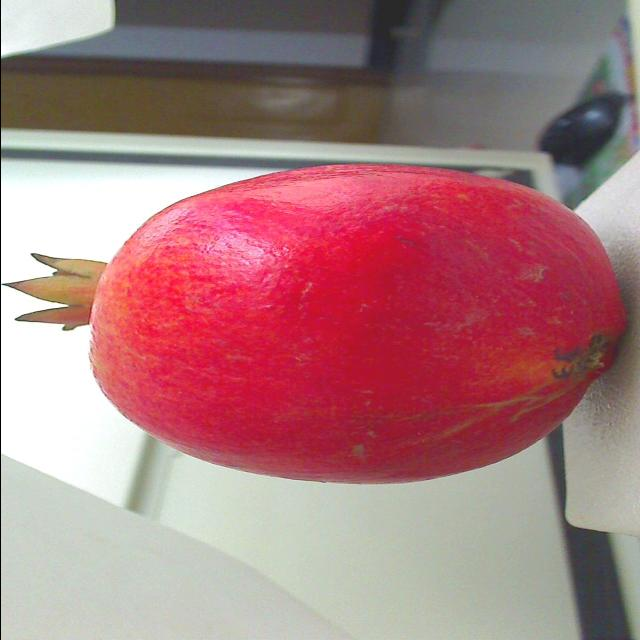pomegranate: (1, 156, 634, 504)
